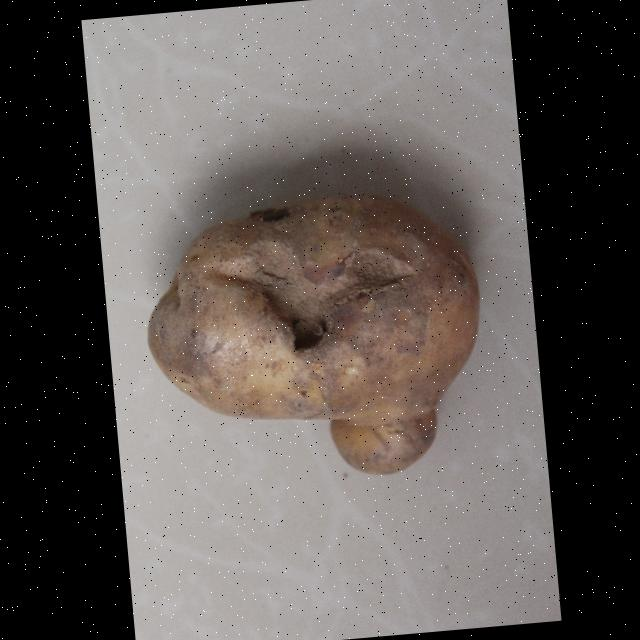Diseased-fungal potato: (132, 181, 494, 496)
